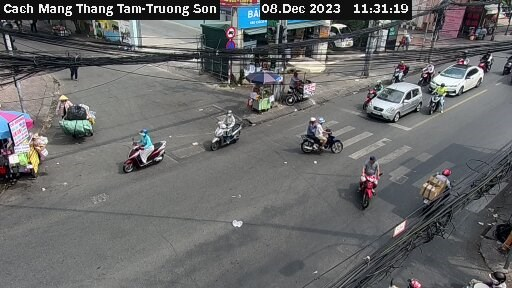car: (363, 80, 425, 127), (430, 61, 483, 98)
motorbike: (297, 121, 352, 163), (114, 132, 170, 172), (208, 117, 261, 155), (354, 163, 387, 212), (425, 85, 450, 110), (416, 64, 439, 89), (388, 62, 411, 86)
